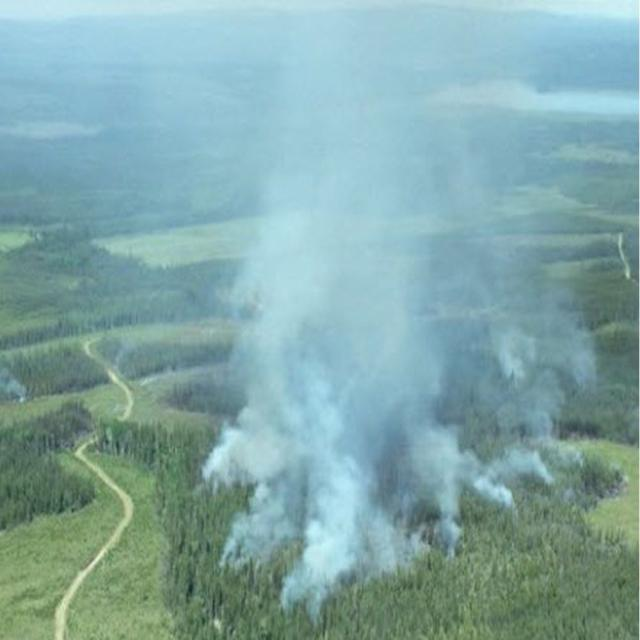Smoke: (157, 0, 599, 586)
